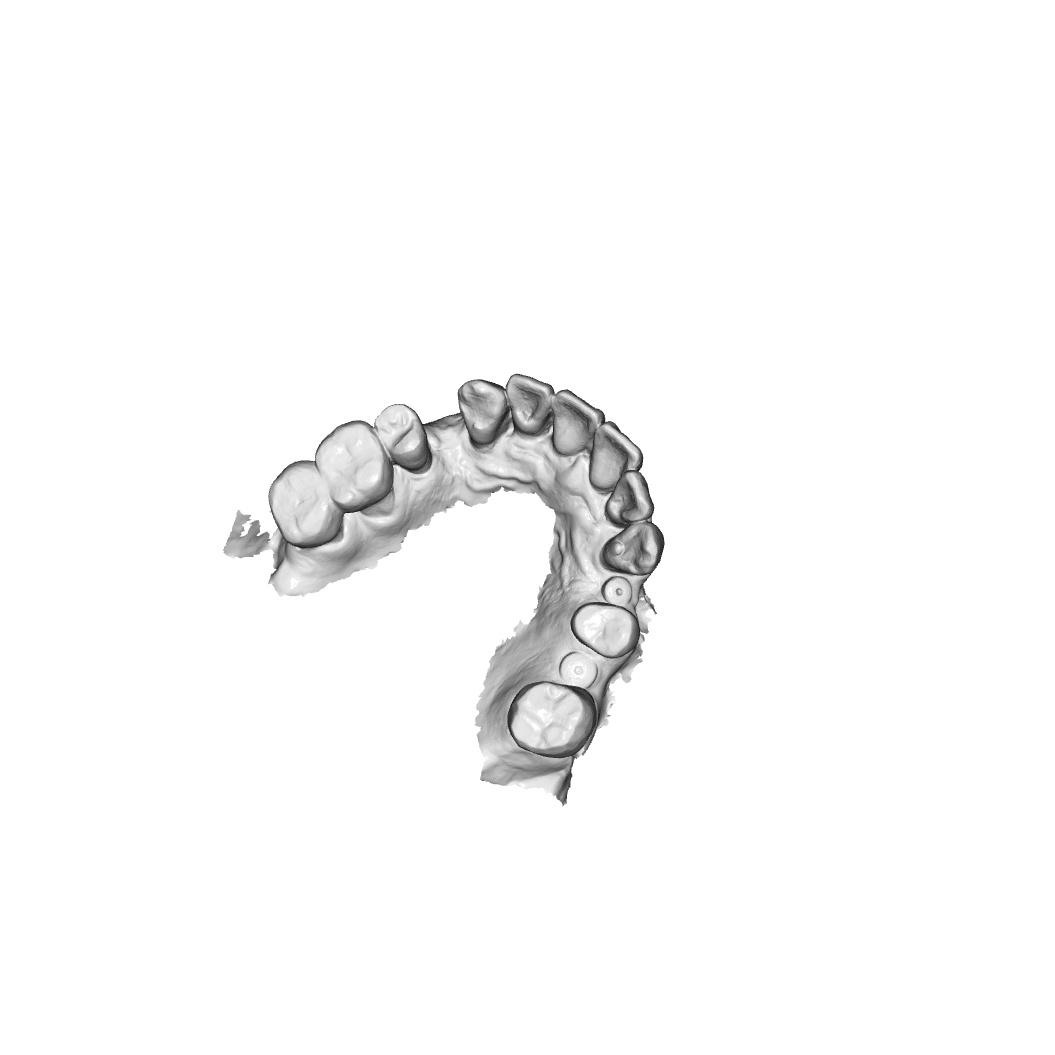canine: (456, 378, 509, 448), (601, 521, 666, 576)
implant: (558, 651, 599, 690), (601, 575, 633, 606)
incisor: (588, 420, 645, 491), (552, 387, 607, 458), (505, 373, 555, 438), (603, 469, 655, 527)
molar: (314, 419, 394, 514), (505, 681, 599, 760), (266, 459, 345, 550)
premolar: (373, 403, 433, 475), (570, 601, 641, 660)
